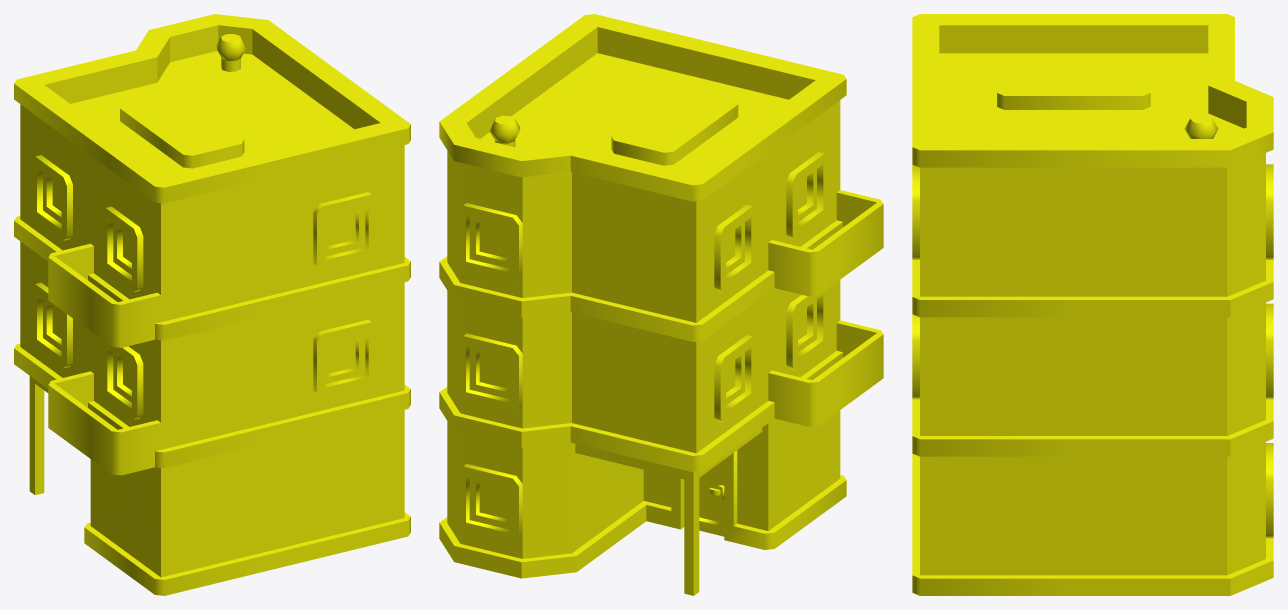
The model's file is commercial-1.glb.
3 views of the same model, side by side, from view 1: azimuth 30°, elevation 25°; view 2: azimuth 150°, elevation 25°; view 3: azimuth 270°, elevation 25° (orthographic). The views are drawn at different scales.
Parts seen in each view (by area): view 1: building-b; view 2: building-b; view 3: building-b.
Boxes of the visible parts, bbox=[...] form: building-b: bbox=[14, 14, 410, 595]; building-b: bbox=[439, 14, 883, 595]; building-b: bbox=[912, 14, 1273, 595].
Size of the model in its own units: 0.97 by 1.29 by 0.94.
Materials: 1 (1 with a texture image).
